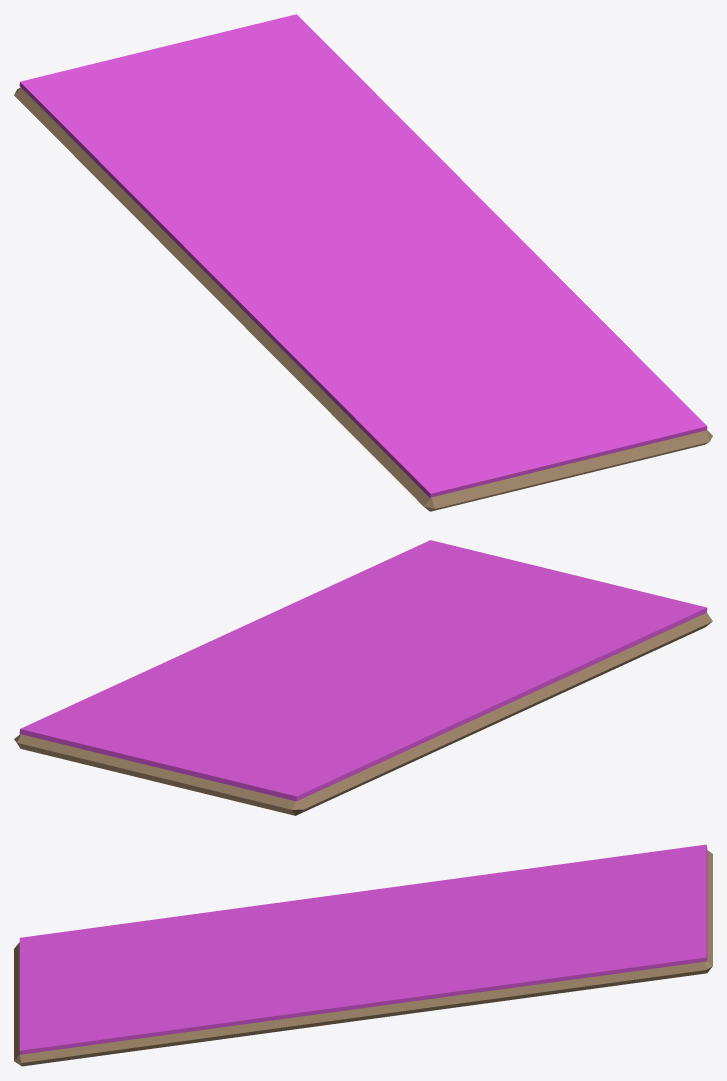
Rendered from forest_path_dirt_slope_down_lod2_v1.glb.
The picture shows the model from 3 angles, top to bottom: view 1: azimuth 30°, elevation 25°; view 2: azimuth 150°, elevation 25°; view 3: azimuth 270°, elevation 25°; orthographic projection. The views are drawn at different scales.
Parts seen in each view (by area): view 1: NAV_MASK_FOREST_PATH_DIRT_SLOPE_DOWN_SLOPE, LOD2_FOREST_PATH_DIRT_SLOPE_DOWN_Slope; view 2: NAV_MASK_FOREST_PATH_DIRT_SLOPE_DOWN_SLOPE, LOD2_FOREST_PATH_DIRT_SLOPE_DOWN_Slope; view 3: NAV_MASK_FOREST_PATH_DIRT_SLOPE_DOWN_SLOPE, LOD2_FOREST_PATH_DIRT_SLOPE_DOWN_Slope.
Boxes of the visible parts, left/top/right/bottom form: NAV_MASK_FOREST_PATH_DIRT_SLOPE_DOWN_SLOPE: left=19, top=14, right=707, bottom=498; LOD2_FOREST_PATH_DIRT_SLOPE_DOWN_Slope: left=14, top=87, right=712, bottom=511; NAV_MASK_FOREST_PATH_DIRT_SLOPE_DOWN_SLOPE: left=19, top=540, right=707, bottom=801; LOD2_FOREST_PATH_DIRT_SLOPE_DOWN_Slope: left=14, top=612, right=712, bottom=815; NAV_MASK_FOREST_PATH_DIRT_SLOPE_DOWN_SLOPE: left=19, top=844, right=707, bottom=1054; LOD2_FOREST_PATH_DIRT_SLOPE_DOWN_Slope: left=14, top=850, right=712, bottom=1066.
Size of what is drawn, in the model's own units: 3.2 by 1.38 by 8.
